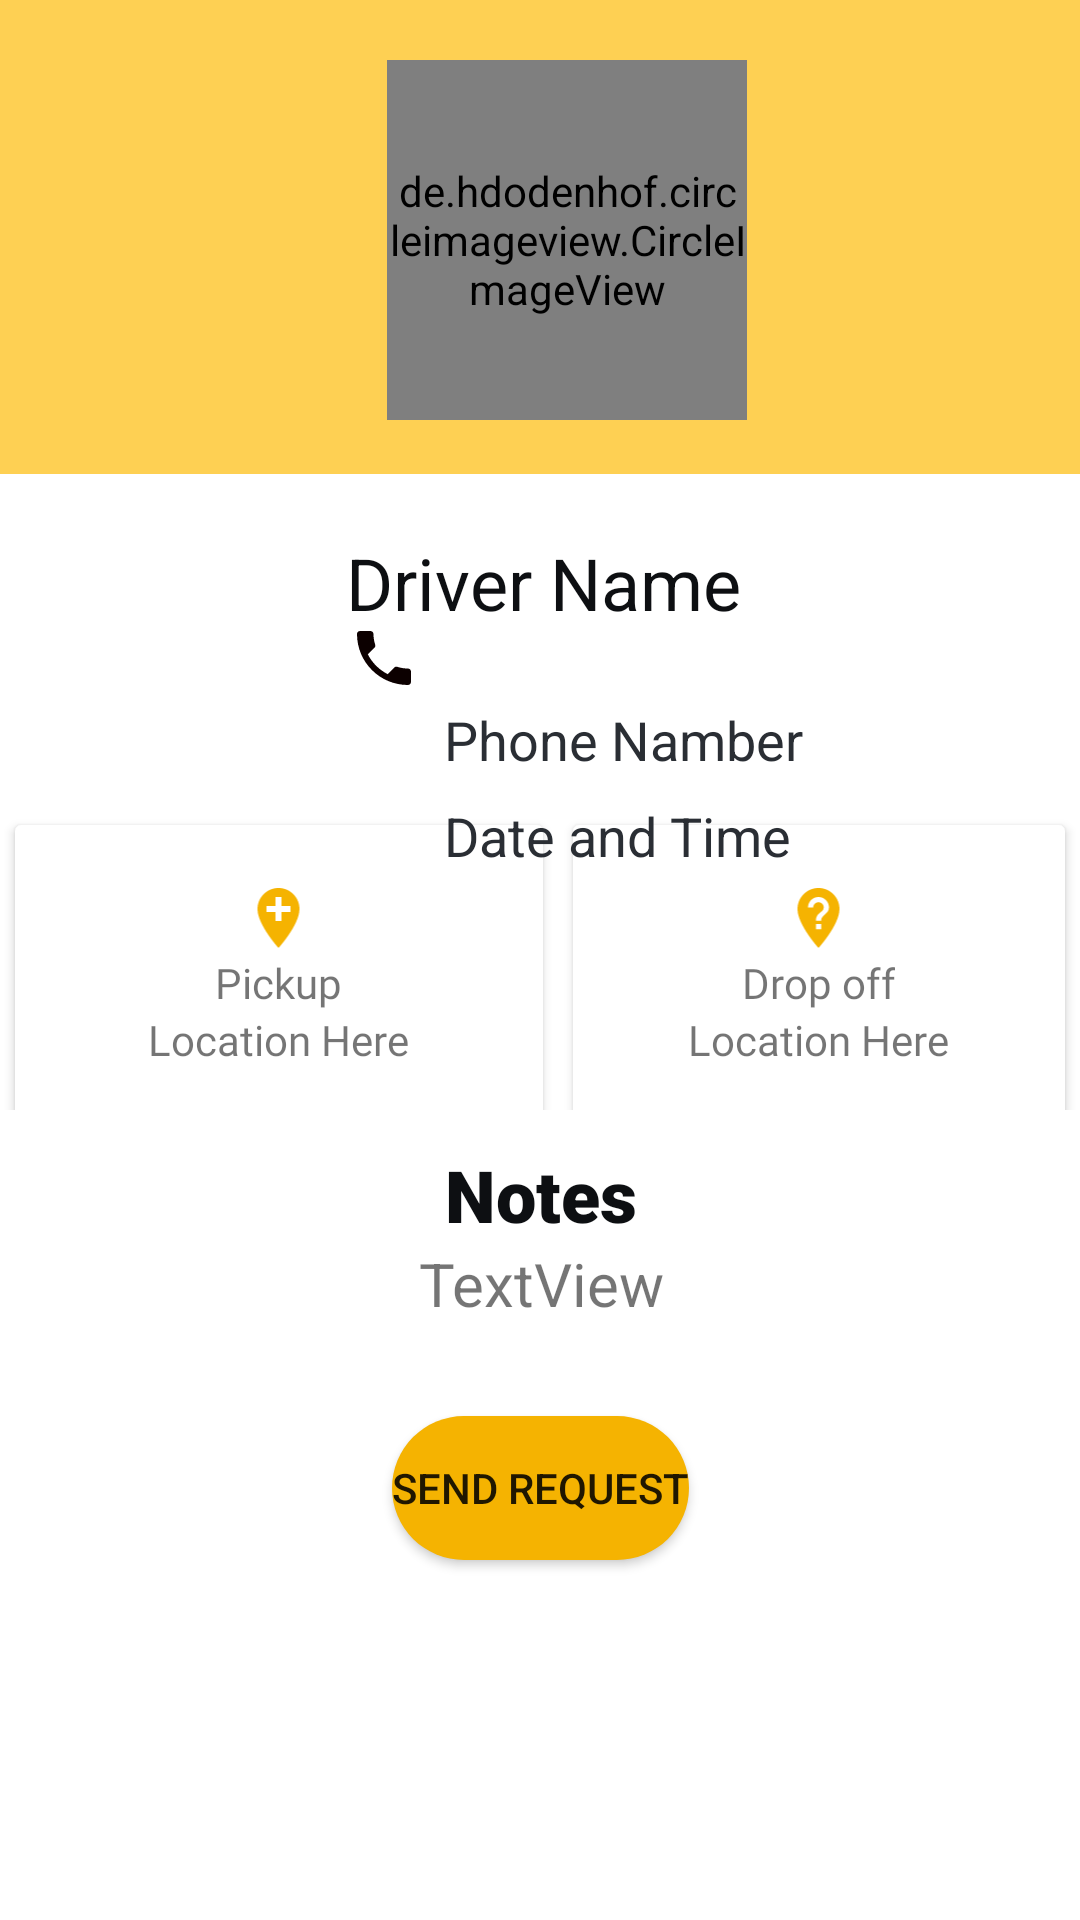

Named icons in this screenshot (1080 x 1920) and their centers, (x=x, y=y):
add location: (x=278, y=918)
not listed location: (x=818, y=918)
